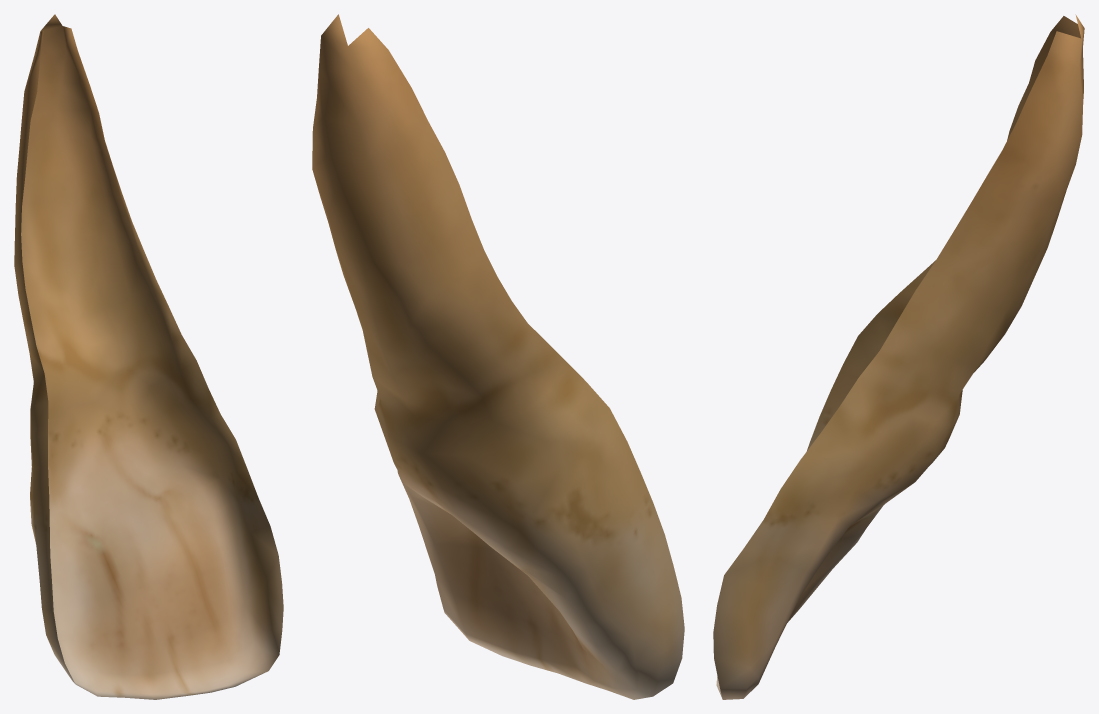
Rendered from tooth-16.glb.
3 views of the same model, side by side, from view 1: azimuth 30°, elevation 25°; view 2: azimuth 150°, elevation 25°; view 3: azimuth 270°, elevation 25° (orthographic). The views are drawn at different scales.
Parts seen in each view (by area): view 1: teeth_1; view 2: teeth_1; view 3: teeth_1.
Part boxes in pixels (left/top/right/bottom): teeth_1: left=14, top=14, right=283, bottom=699; teeth_1: left=312, top=14, right=684, bottom=699; teeth_1: left=713, top=14, right=1084, bottom=699.
Bounding box in the file's own units: 0.0231 × 0.0645 × 0.0326.
Materials: 1 (1 with a texture image).
